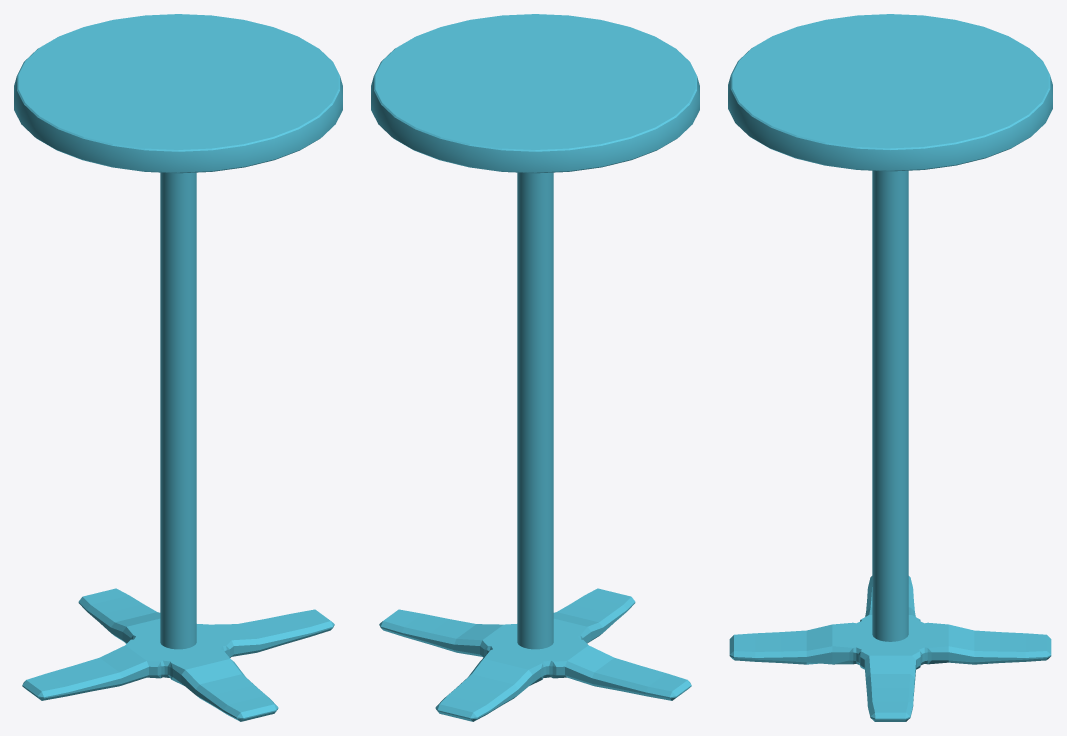
File: table.obj
3 views of the same model, side by side, from view 1: azimuth 30°, elevation 25°; view 2: azimuth 150°, elevation 25°; view 3: azimuth 270°, elevation 25° (orthographic).
Visible parts, largest first — view 1: Cylinder002; view 2: Cylinder002; view 3: Cylinder002.
Boxes of the visible parts, bbox=[...] form: Cylinder002: bbox=[14, 14, 342, 721]; Cylinder002: bbox=[371, 14, 699, 721]; Cylinder002: bbox=[728, 14, 1052, 721].
Bounding box in the file's own units: 22.05 × 41.15 × 21.14.
